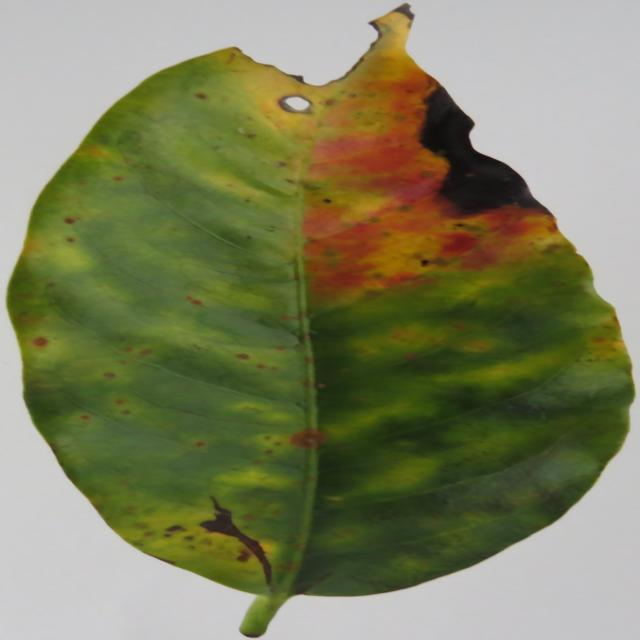DeficienciaNutricional-Fosforo: (8, 8, 632, 601)
